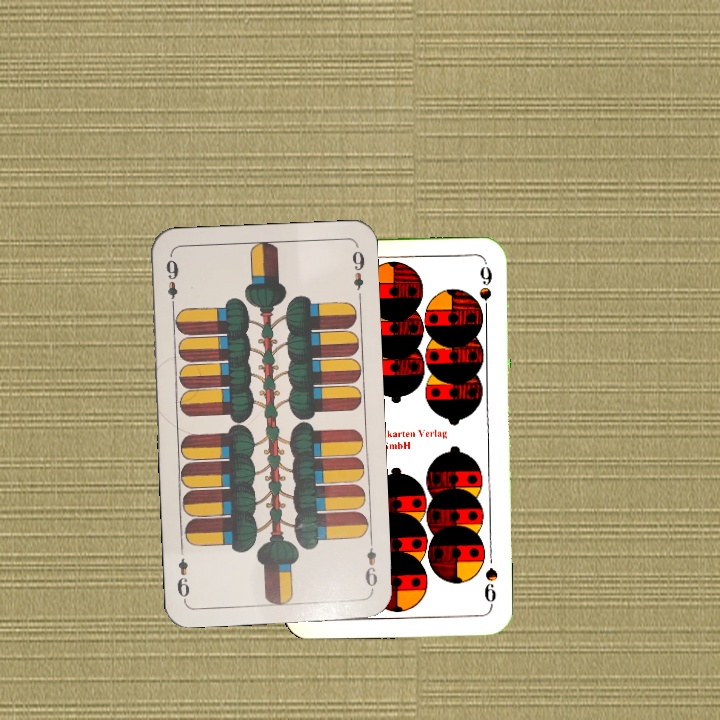E9: (162, 253, 181, 312), (361, 534, 380, 593)
S9: (480, 564, 500, 611)
